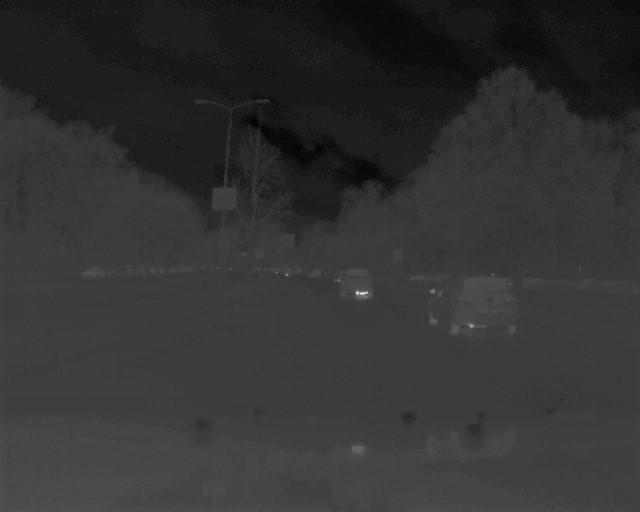car: (427, 274, 522, 338), (339, 267, 375, 301)
